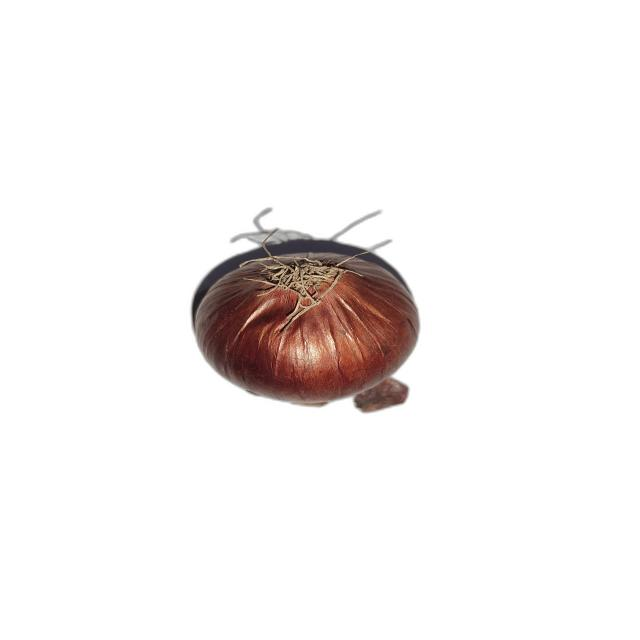onion: (193, 229, 420, 407)
